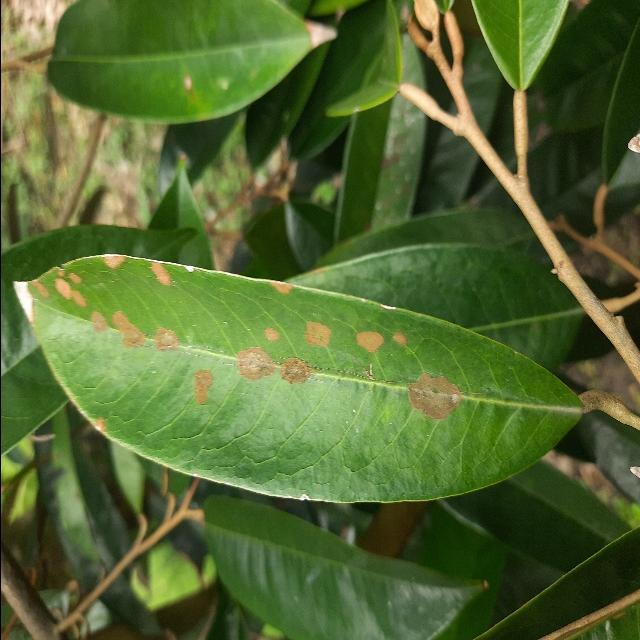Algal Leaf Spot: (9, 249, 579, 510)
